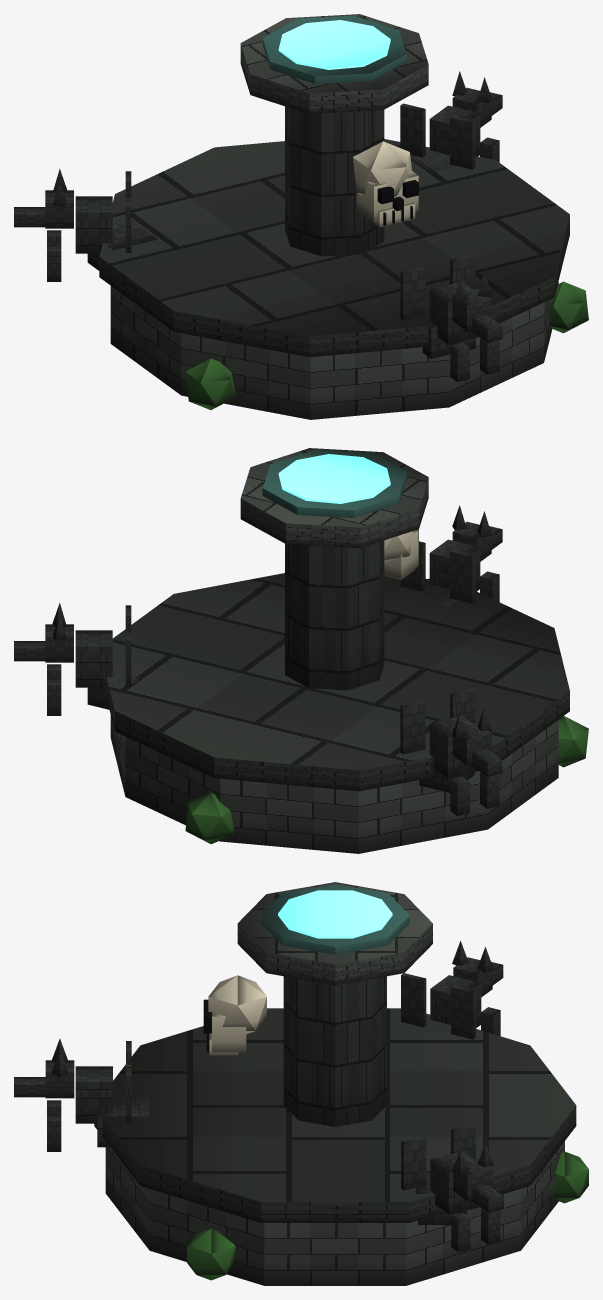
Rendered from fountain.gltf.
3 renders of one model, top to bottom at view 1: azimuth 30°, elevation 25°; view 2: azimuth 150°, elevation 25°; view 3: azimuth 270°, elevation 25°, orthographic.
Visible parts, largest first — view 1: fountain; view 2: fountain; view 3: fountain.
Boxes of the visible parts, x1=… form: fountain: x1=14, y1=14, x2=588, y2=419; fountain: x1=14, y1=448, x2=588, y2=853; fountain: x1=14, y1=882, x2=588, y2=1285.
Size of the model in its own units: 1.97 by 1.1 by 2.
1 material, 1 textured.
